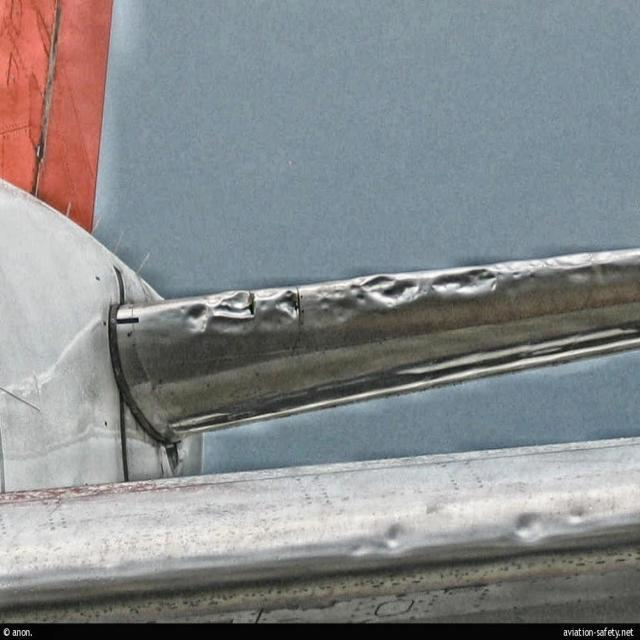dent: (354, 273, 424, 313), (215, 292, 266, 341), (433, 267, 497, 297), (265, 290, 301, 330), (185, 300, 215, 339), (386, 514, 416, 553), (516, 511, 544, 548)
